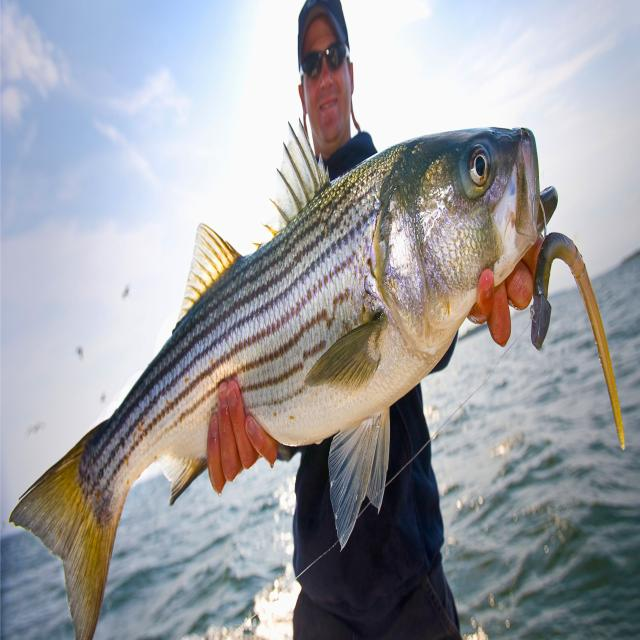Bass - Striped: (10, 126, 556, 638)
